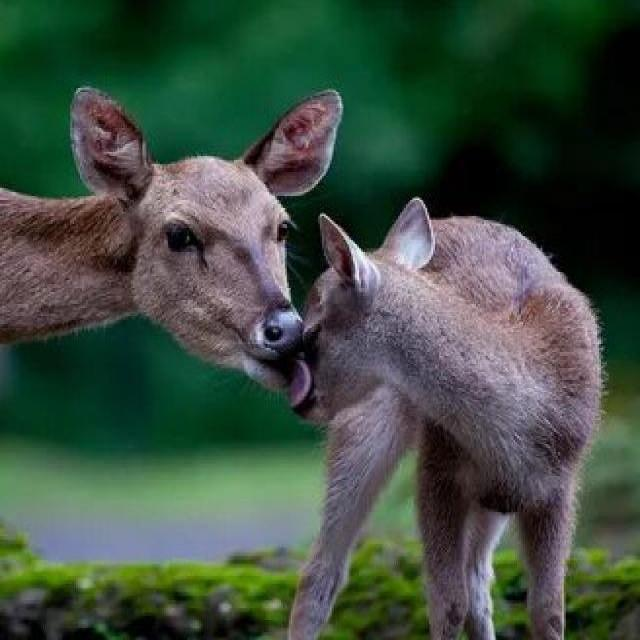deer: (262, 238, 590, 631), (0, 86, 342, 438)
